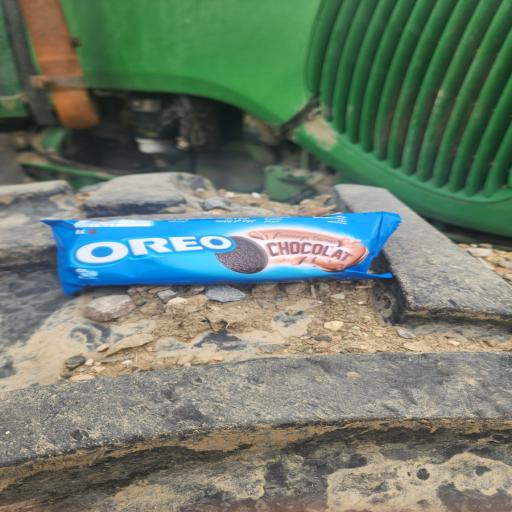oreo: (12, 156, 450, 335)
